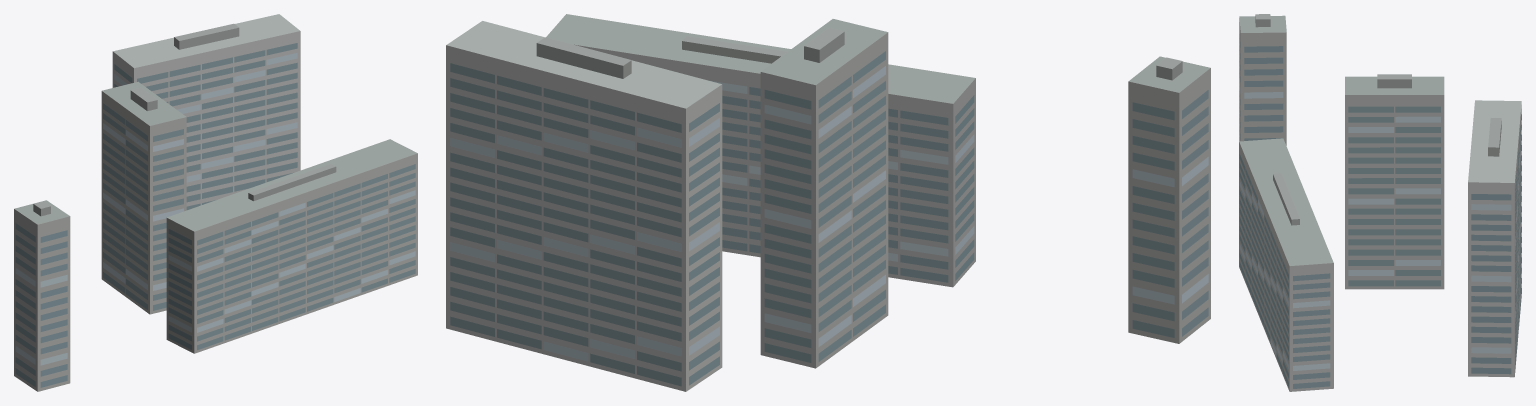
Rendered from apt-a13812003.glb.
3 views of the same model, side by side, from view 1: azimuth 30°, elevation 25°; view 2: azimuth 150°, elevation 25°; view 3: azimuth 270°, elevation 25° (orthographic). The views are drawn at different scales.
Visible parts, largest first — view 1: apt-a13812003; view 2: apt-a13812003; view 3: apt-a13812003.
Part boxes in pixels (box(x1,y1,x2,y2)): apt-a13812003: box(14, 14, 417, 391); apt-a13812003: box(446, 14, 1210, 391); apt-a13812003: box(1239, 14, 1521, 391).
Size of the model in its own units: 116 by 54 by 68.09.
